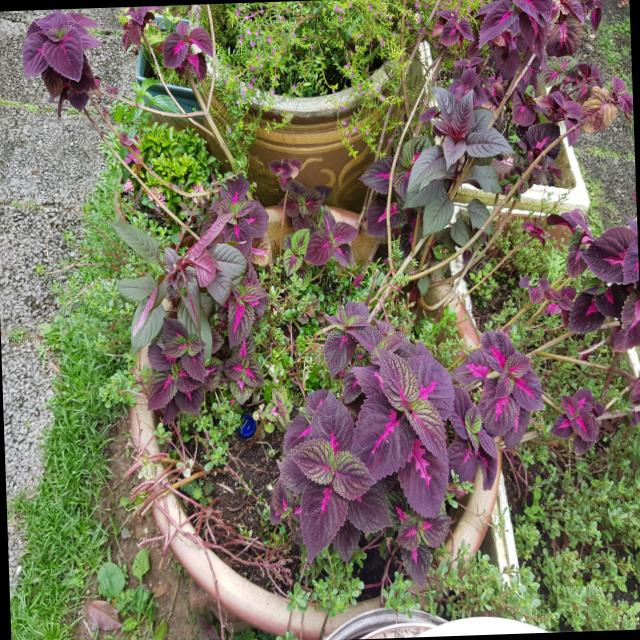Coleus: (258, 292, 489, 580), (417, 0, 635, 184), (104, 207, 268, 423), (269, 154, 372, 284), (556, 201, 640, 355), (8, 10, 112, 121), (458, 316, 540, 445), (152, 9, 224, 102), (545, 377, 597, 465)
